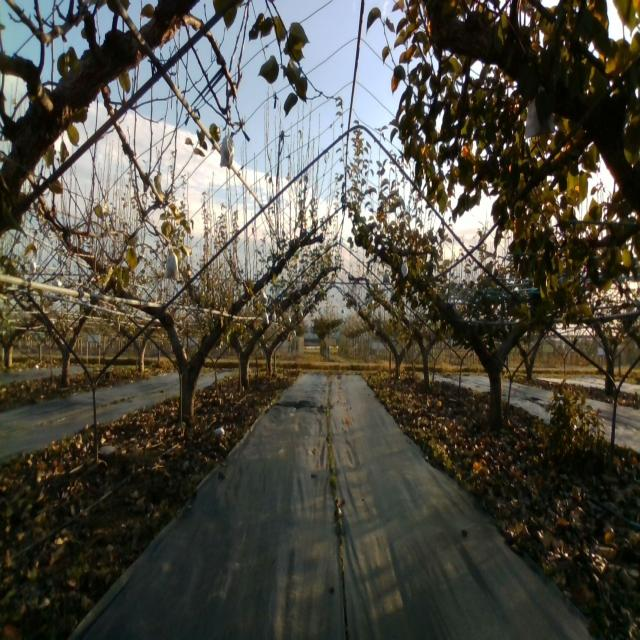pearbags: (218, 128, 235, 170), (163, 242, 180, 282)
